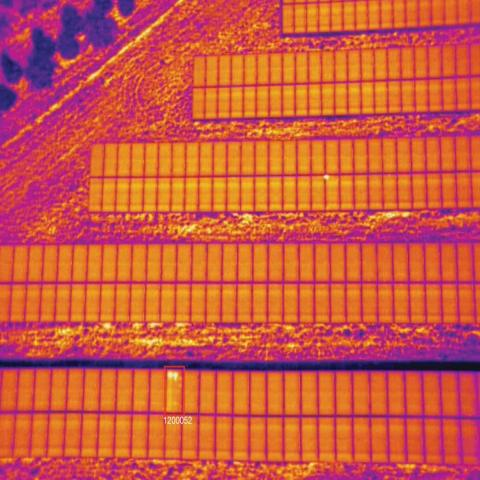fault: (171, 369, 180, 383), (166, 371, 172, 381), (324, 175, 330, 180)
